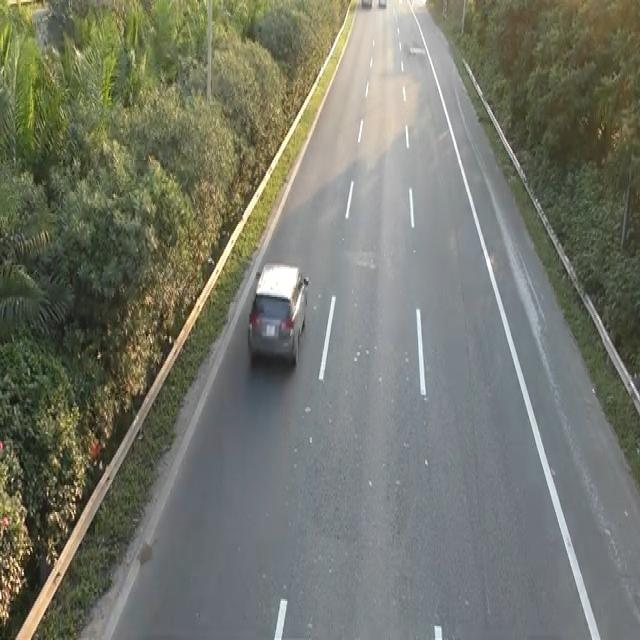car: (245, 258, 311, 368)
